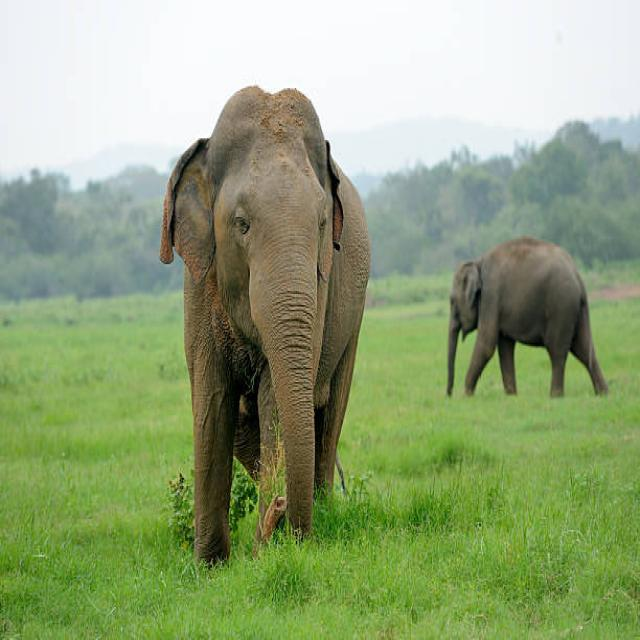Elephant: (147, 78, 365, 564), (449, 242, 609, 413)
